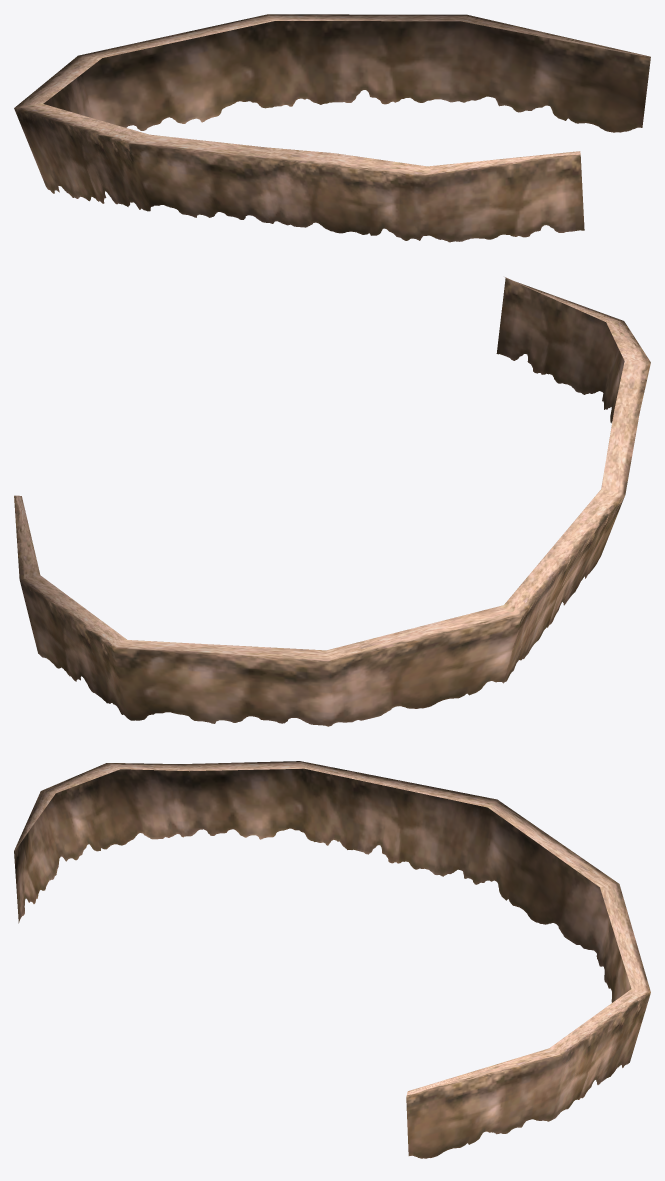
The model's file is EKH_THRONE_PS_TH_LINE07.fbx.
3 renders of one model, top to bottom at view 1: azimuth 30°, elevation 25°; view 2: azimuth 150°, elevation 25°; view 3: azimuth 270°, elevation 25°, orthographic. The views are drawn at different scales.
Parts seen in each view (by area): view 1: EKH_THRONE_PS_TH_LINE07; view 2: EKH_THRONE_PS_TH_LINE07; view 3: EKH_THRONE_PS_TH_LINE07.
Boxes of the visible parts, <box> form: EKH_THRONE_PS_TH_LINE07: <box>14,14,650,242</box>; EKH_THRONE_PS_TH_LINE07: <box>14,277,650,726</box>; EKH_THRONE_PS_TH_LINE07: <box>14,761,650,1158</box>.
Bounding box in the file's own units: 41534 × 15373 × 44564.
1 material, 1 textured.
